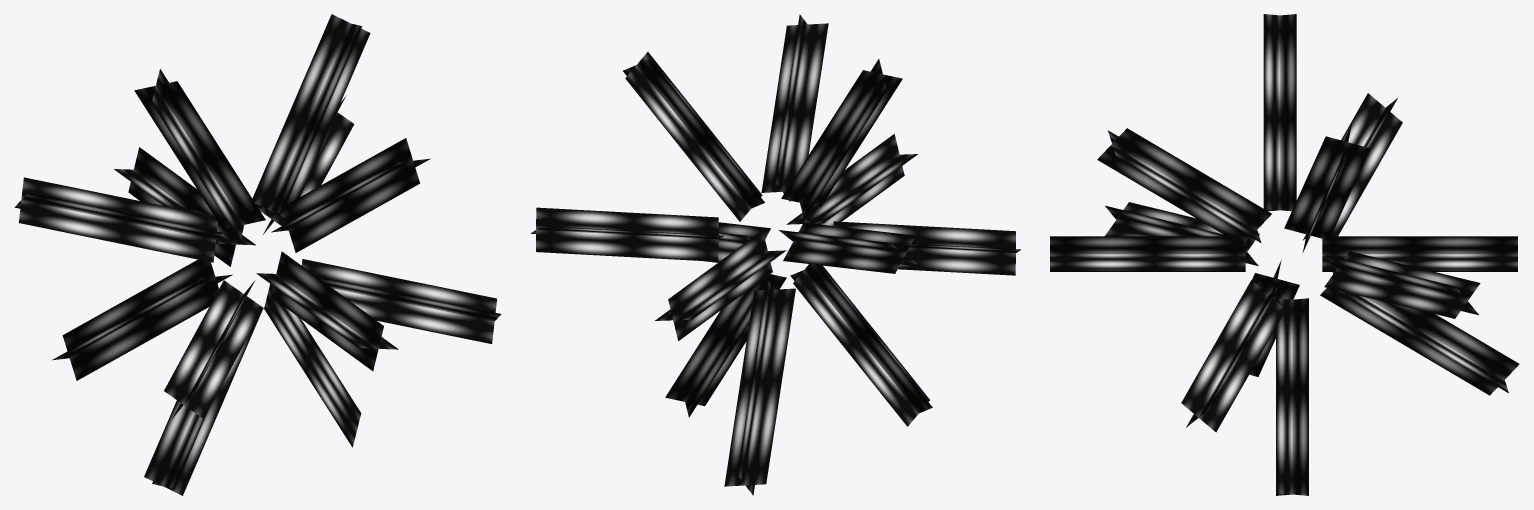
The model's file is vfx_kurp_0113.dae.
3 renders of one model, left to right at view 1: azimuth 30°, elevation 25°; view 2: azimuth 150°, elevation 25°; view 3: azimuth 270°, elevation 25°, orthographic. The views are drawn at different scales.
Parts seen in each view (by area): view 1: vfx_kurp_0113; view 2: vfx_kurp_0113; view 3: vfx_kurp_0113.
Part boxes in pixels (x1=…): vfx_kurp_0113: x1=14, y1=14, x2=501, y2=495; vfx_kurp_0113: x1=530, y1=14, x2=1020, y2=495; vfx_kurp_0113: x1=1050, y1=14, x2=1519, y2=495.
Bounding box in the file's own units: 13.06 × 14.1 × 13.16.
1 material, 1 textured.
